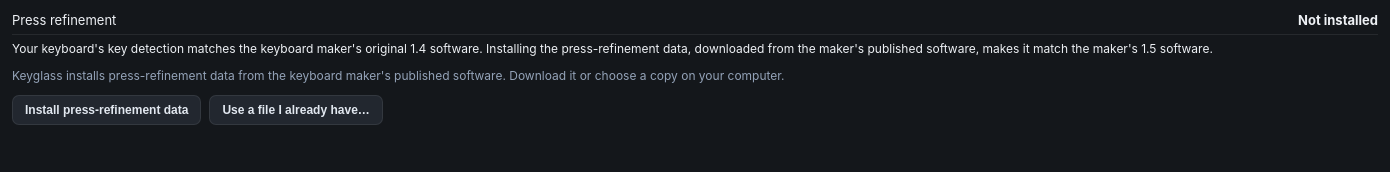
Press refinement › installs from a package or firmware file the user already has
Expected: the text "Not installed" is shown, x1=1298 y1=12 x2=1378 y2=28
Click the button "Use a file I already have…" at (296, 110), box x1=209 y1=95 x2=383 y2=125
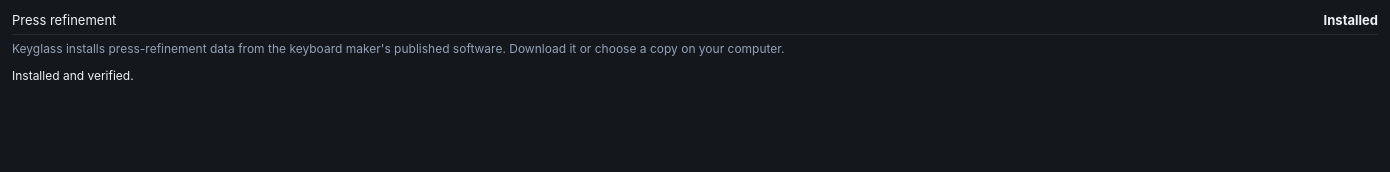
Now the text "Installed and verified." is shown, box x1=12 y1=68 x2=134 y2=83
